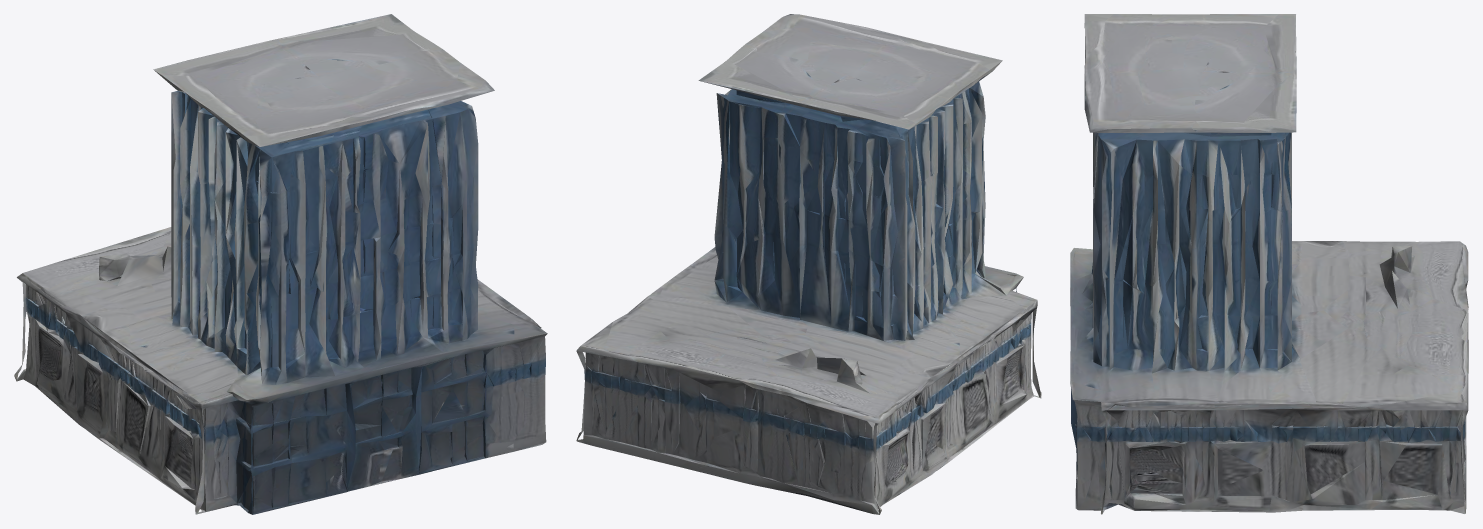
File: empresa_f3.glb
3 renders of one model, left to right at view 1: azimuth 30°, elevation 25°; view 2: azimuth 150°, elevation 25°; view 3: azimuth 270°, elevation 25°, orthographic. The views are drawn at different scales.
Parts seen in each view (by area): view 1: tripo_node_06586a53-d17e-40aa-a5fc-009a58c5932e; view 2: tripo_node_06586a53-d17e-40aa-a5fc-009a58c5932e; view 3: tripo_node_06586a53-d17e-40aa-a5fc-009a58c5932e.
Boxes of the visible parts, x1,y1,x2,y2 form: tripo_node_06586a53-d17e-40aa-a5fc-009a58c5932e: [14, 14, 547, 514]; tripo_node_06586a53-d17e-40aa-a5fc-009a58c5932e: [576, 14, 1041, 514]; tripo_node_06586a53-d17e-40aa-a5fc-009a58c5932e: [1070, 14, 1468, 514].
Size of the model in its own units: 0.9976 by 0.9998 by 0.9999.
Materials: 1 (1 with a texture image).
